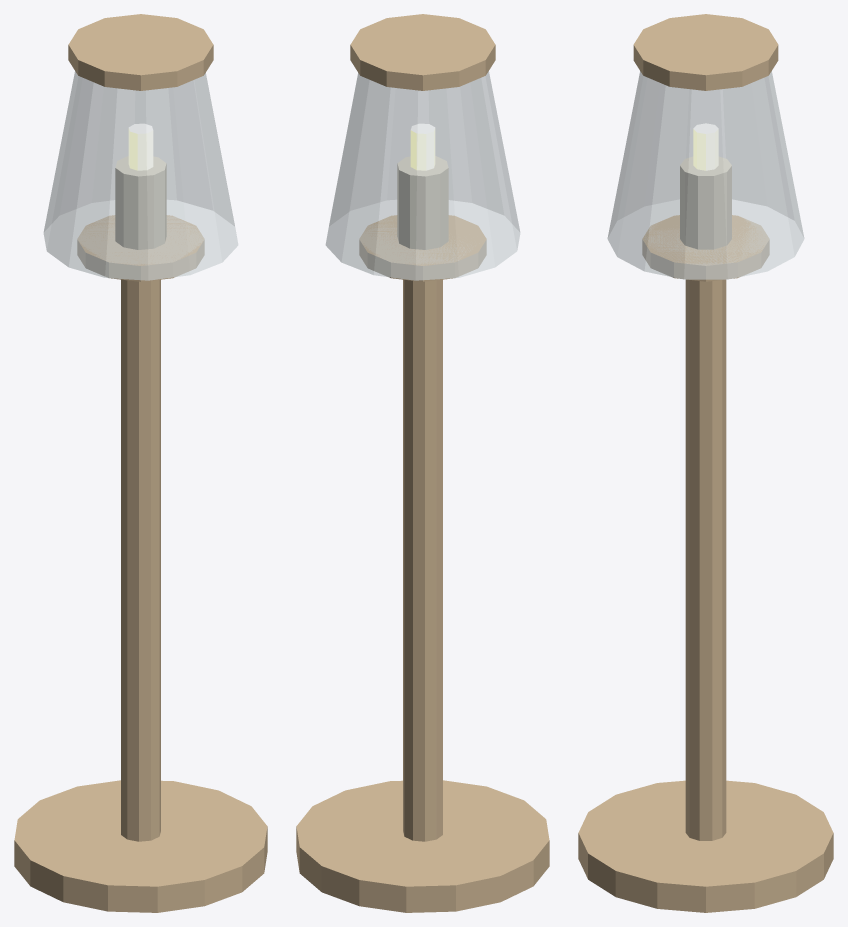
File: 18-Casas_lampara_pie.glb
3 views of the same model, side by side, from view 1: azimuth 30°, elevation 25°; view 2: azimuth 150°, elevation 25°; view 3: azimuth 270°, elevation 25° (orthographic).
Visible parts, largest first — view 1: SM_Lampara_M_Mueble_Bronce, SM_Lampara_M_Mueble_Vidrio, SM_Lampara_M_Mueble_Cera_Mueble_Llama; view 2: SM_Lampara_M_Mueble_Bronce, SM_Lampara_M_Mueble_Vidrio, SM_Lampara_M_Mueble_Cera_Mueble_Llama; view 3: SM_Lampara_M_Mueble_Bronce, SM_Lampara_M_Mueble_Vidrio, SM_Lampara_M_Mueble_Cera_Mueble_Llama.
Part boxes in pixels (x1=…): SM_Lampara_M_Mueble_Bronce: x1=14, y1=14, x2=267, y2=912; SM_Lampara_M_Mueble_Vidrio: x1=43, y1=71, x2=238, y2=280; SM_Lampara_M_Mueble_Cera_Mueble_Llama: x1=115, y1=123, x2=166, y2=249; SM_Lampara_M_Mueble_Bronce: x1=296, y1=14, x2=549, y2=912; SM_Lampara_M_Mueble_Vidrio: x1=325, y1=71, x2=520, y2=280; SM_Lampara_M_Mueble_Cera_Mueble_Llama: x1=397, y1=123, x2=448, y2=249; SM_Lampara_M_Mueble_Bronce: x1=578, y1=14, x2=833, y2=912; SM_Lampara_M_Mueble_Vidrio: x1=607, y1=71, x2=804, y2=279; SM_Lampara_M_Mueble_Cera_Mueble_Llama: x1=680, y1=123, x2=731, y2=249.
Size of the model in its own units: 0.44 by 1.55 by 0.44.
